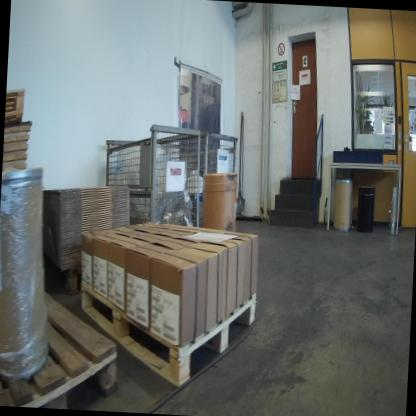pallet: (71, 270, 263, 390), (0, 271, 135, 410)
stillage: (97, 112, 207, 236), (151, 125, 242, 245)
